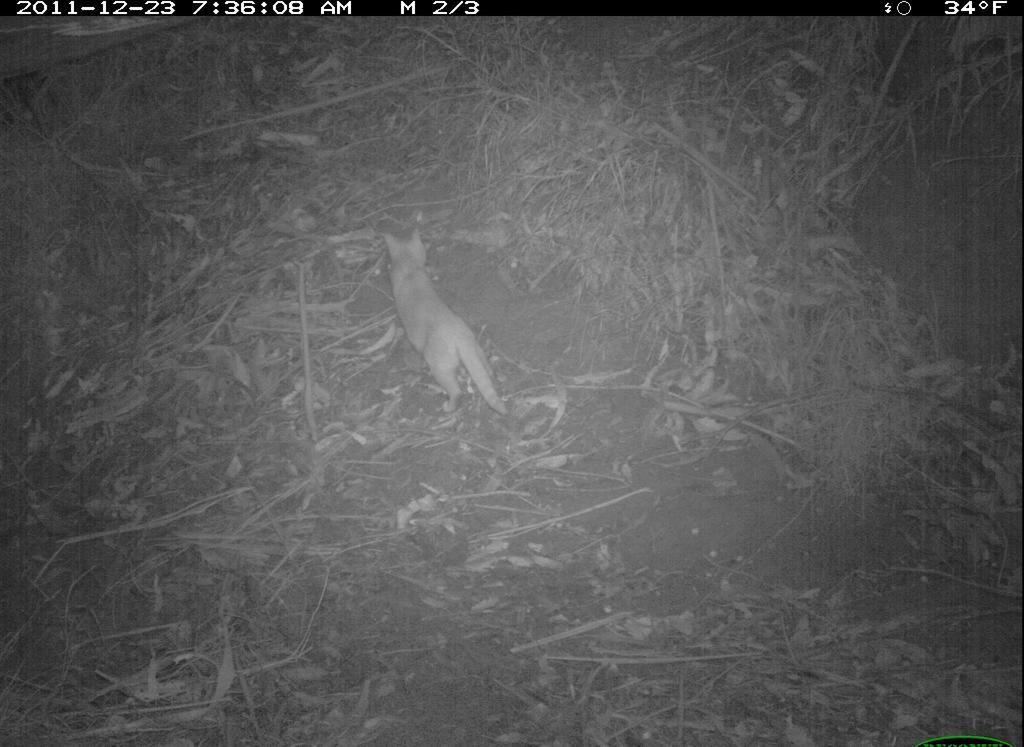cat: (368, 226, 520, 434)
